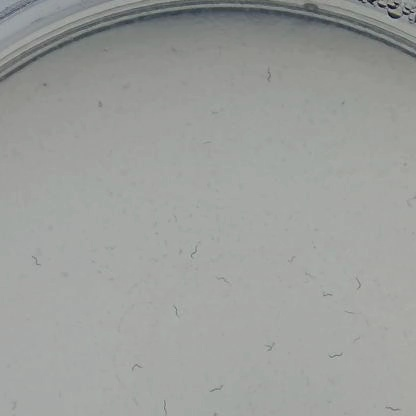worm: (213, 273, 233, 291), (184, 241, 201, 262), (27, 251, 45, 268), (168, 301, 184, 320), (262, 67, 276, 86), (205, 385, 231, 395), (7, 398, 23, 414), (160, 398, 174, 416), (323, 349, 347, 359), (127, 361, 145, 374), (303, 269, 321, 281), (383, 404, 404, 414), (352, 277, 367, 291), (261, 340, 277, 352), (349, 335, 366, 345), (403, 196, 416, 209), (322, 289, 336, 301), (288, 255, 300, 269)
